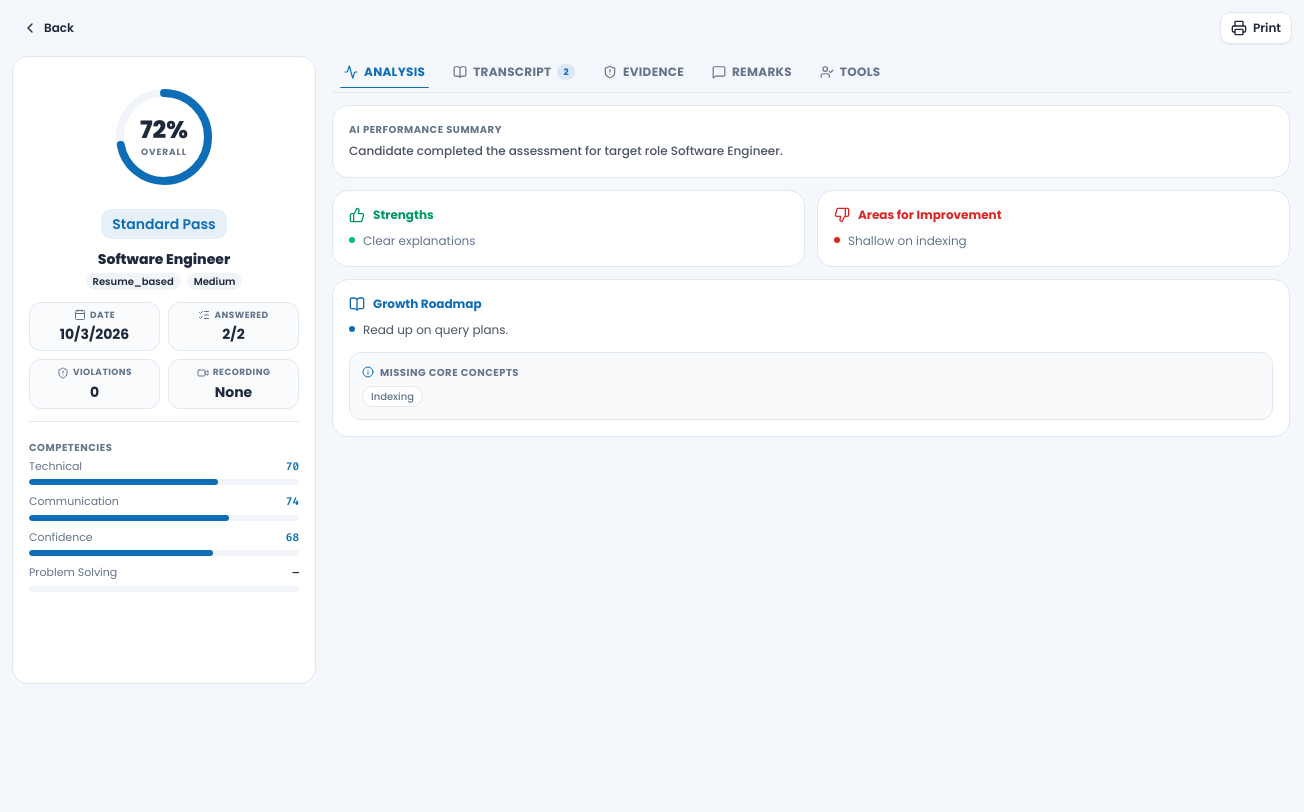
report traceability › names the resume entry a question came from
Step 1. Click the button "Transcript 2" → click(514, 72), box [441,56,587,88]
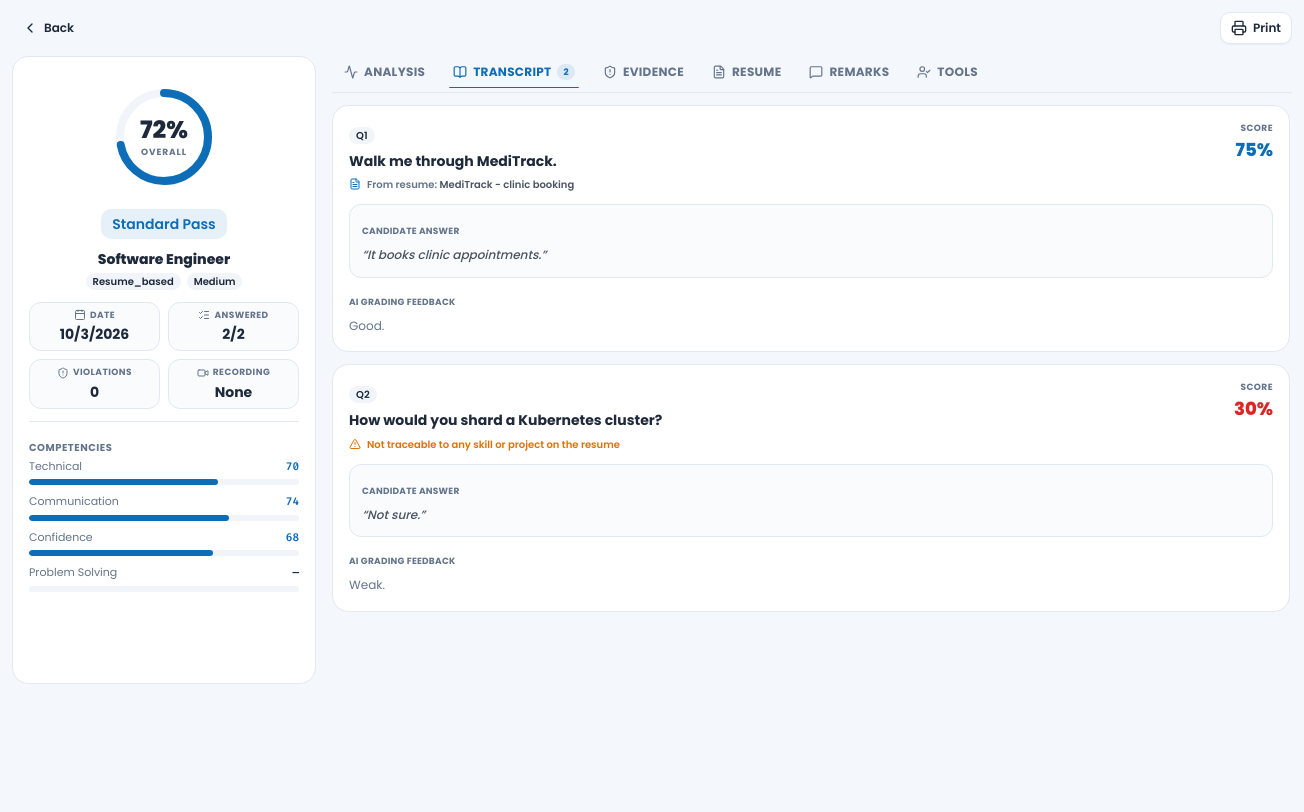
Now the text "From resume: MediTrack - clinic booking" is shown, box [367,177,574,192]
